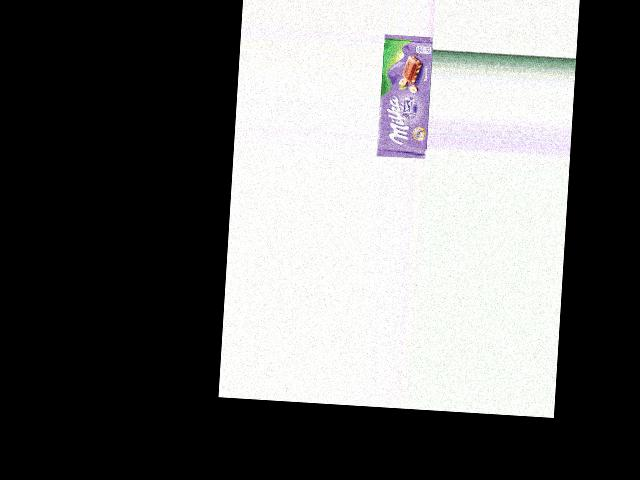chocolate: (377, 33, 434, 159)
